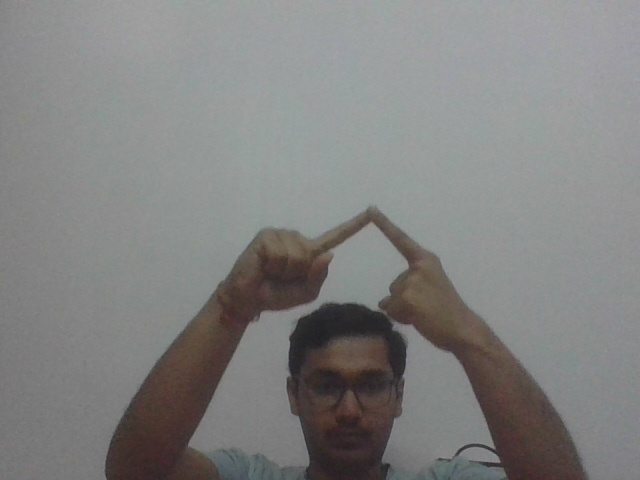E: (243, 204, 487, 321)
